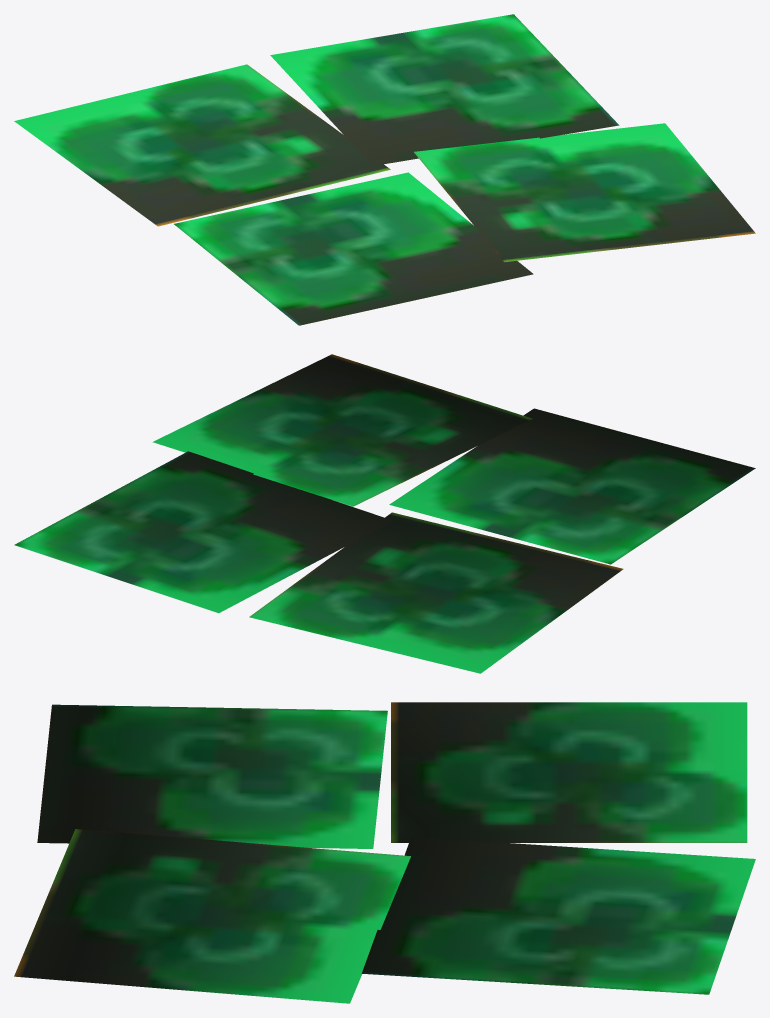
The model's file is fg_grassE.dae.
3 views of the same model, one above another, from view 1: azimuth 30°, elevation 25°; view 2: azimuth 150°, elevation 25°; view 3: azimuth 270°, elevation 25° (orthographic). The views are drawn at different scales.
Parts seen in each view (by area): view 1: fg_grassE; view 2: fg_grassE; view 3: fg_grassE.
Part boxes in pixels (x1=…): fg_grassE: x1=14, y1=14, x2=755, y2=325; fg_grassE: x1=14, y1=354, x2=755, y2=673; fg_grassE: x1=14, y1=702, x2=755, y2=1003.
Size of the model in its own units: 23.5 by 0.3916 by 24.87.
1 material, 1 textured.
